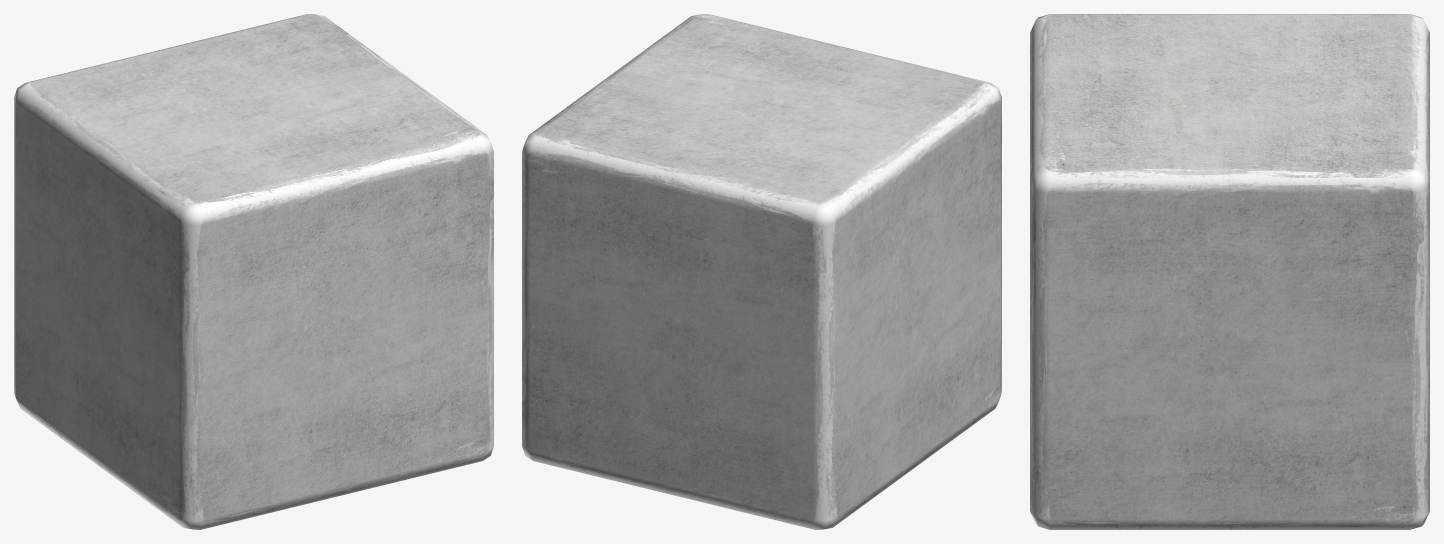
The model's file is concrete_box.fbx.
3 views of the same model, side by side, from view 1: azimuth 30°, elevation 25°; view 2: azimuth 150°, elevation 25°; view 3: azimuth 270°, elevation 25° (orthographic). The views are drawn at different scales.
Visible parts, largest first — view 1: concrete_block; view 2: concrete_block; view 3: concrete_block.
Boxes of the visible parts, x1,y1,x2,y2 form: concrete_block: (14, 14, 493, 529); concrete_block: (522, 14, 1001, 529); concrete_block: (1030, 14, 1429, 529).
Bounding box in the file's own units: 2 × 2 × 2.
Materials: 1 (1 with a texture image).
